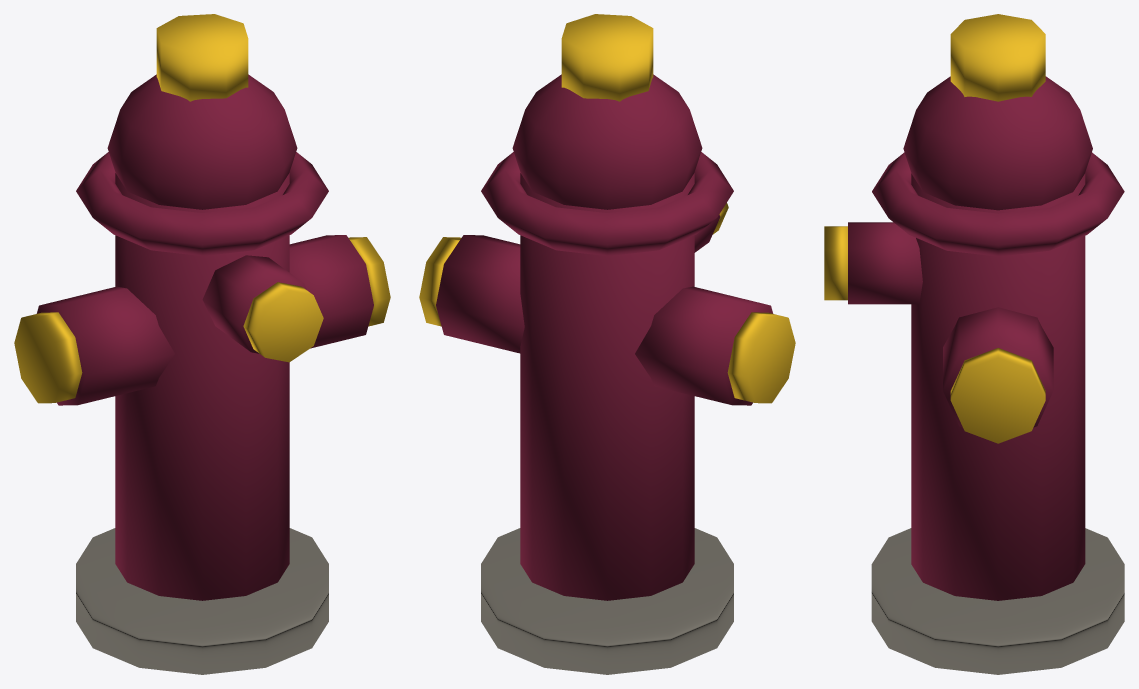
File: hydrant.glb
3 views of the same model, side by side, from view 1: azimuth 30°, elevation 25°; view 2: azimuth 150°, elevation 25°; view 3: azimuth 270°, elevation 25° (orthographic).
Visible parts, largest first — view 1: Hydrant.001; view 2: Hydrant.001; view 3: Hydrant.001.
Boxes of the visible parts, box(x1,y1,x2,y2) form: Hydrant.001: box(14, 14, 390, 674); Hydrant.001: box(419, 14, 795, 674); Hydrant.001: box(824, 14, 1124, 674).
Bounding box in the file's own units: 0.48 × 0.82 × 0.38.
